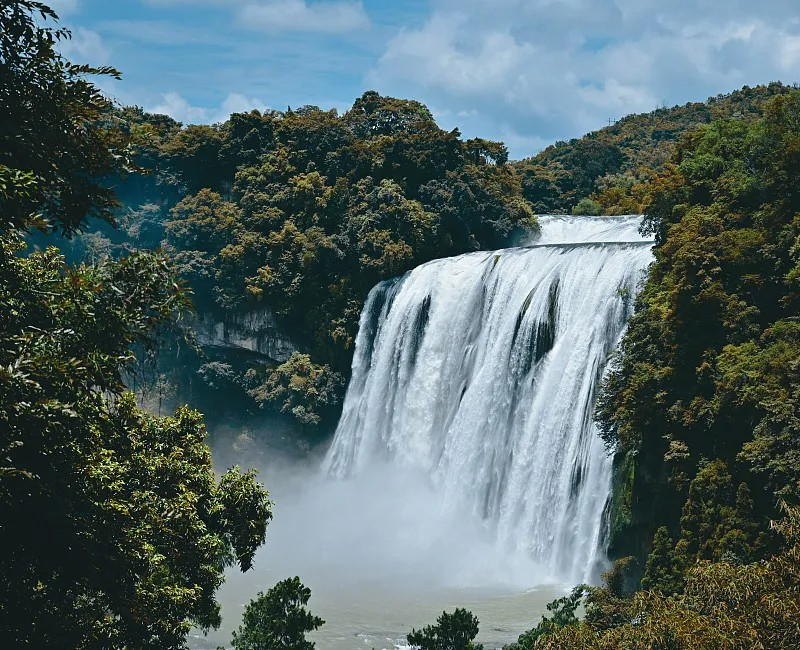Huangguoshu: (322, 214, 655, 580)
